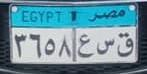3: (15, 33, 27, 59)
5: (44, 38, 56, 55)
6: (29, 32, 42, 58)
8: (59, 34, 71, 58)
ain: (78, 32, 93, 58)
qaaf: (116, 32, 135, 59)
seen: (96, 38, 115, 55)
